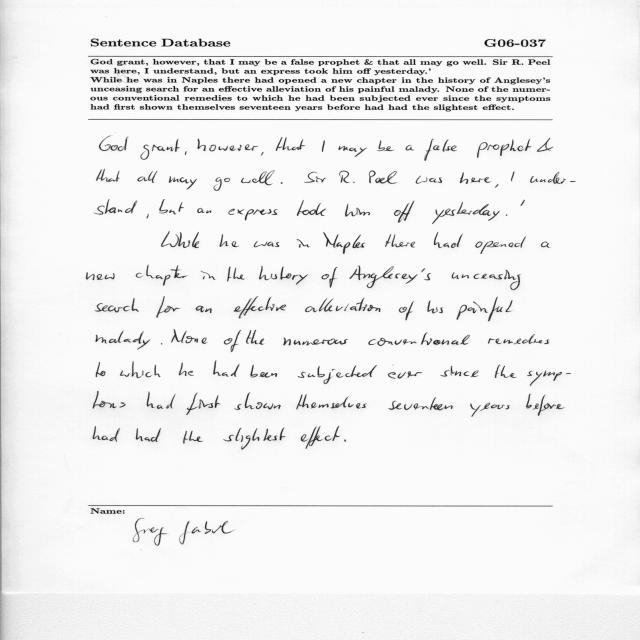word: (349, 265, 431, 288), (298, 365, 377, 384), (432, 202, 500, 224), (368, 332, 470, 346), (452, 270, 521, 290), (224, 428, 286, 450), (457, 297, 513, 321), (234, 297, 286, 319), (296, 395, 367, 410), (305, 298, 380, 312), (477, 139, 531, 158), (96, 331, 150, 350), (136, 266, 187, 286), (259, 266, 308, 285), (324, 232, 366, 254), (301, 426, 339, 449), (475, 237, 526, 254), (526, 394, 565, 416), (388, 397, 453, 410), (235, 392, 281, 410), (141, 139, 180, 160), (197, 139, 258, 152), (186, 393, 220, 415), (424, 139, 457, 161), (527, 370, 571, 386), (120, 361, 161, 378), (95, 298, 139, 313), (95, 200, 138, 215), (162, 231, 199, 248), (488, 334, 550, 344), (470, 402, 510, 417), (93, 391, 126, 409), (530, 172, 576, 184), (228, 209, 278, 220), (171, 329, 207, 344), (147, 391, 176, 409), (283, 338, 348, 346), (241, 170, 275, 185), (156, 297, 180, 318), (297, 200, 326, 216), (434, 232, 463, 248), (394, 201, 415, 223), (100, 136, 129, 151), (213, 361, 240, 377), (93, 426, 120, 442), (385, 234, 415, 248), (441, 366, 479, 377), (276, 137, 305, 151), (369, 170, 397, 184), (159, 200, 184, 215), (224, 330, 241, 352), (460, 172, 491, 184), (169, 176, 197, 189), (321, 267, 338, 288), (251, 365, 278, 378), (136, 428, 161, 442), (345, 204, 370, 217), (338, 146, 367, 157), (97, 169, 120, 182), (399, 301, 414, 320), (495, 365, 516, 378), (388, 371, 422, 379), (227, 267, 245, 282), (246, 330, 264, 345), (219, 234, 239, 247), (183, 431, 203, 444), (304, 172, 326, 183), (138, 171, 158, 183), (214, 177, 231, 191), (537, 138, 553, 152), (87, 272, 115, 280), (179, 362, 194, 376), (416, 176, 442, 184), (427, 301, 443, 314), (339, 171, 355, 183), (377, 141, 394, 152), (254, 242, 280, 248), (96, 362, 106, 377), (201, 271, 216, 280), (297, 239, 310, 248), (196, 306, 212, 313), (197, 208, 211, 213), (541, 241, 550, 248), (406, 145, 415, 150), (322, 140, 325, 152), (511, 172, 514, 182), (521, 200, 525, 206), (495, 184, 499, 188), (261, 152, 264, 156), (147, 214, 149, 219), (185, 151, 187, 155), (344, 439, 346, 442), (281, 182, 283, 184), (506, 214, 508, 216), (161, 343, 162, 345)
